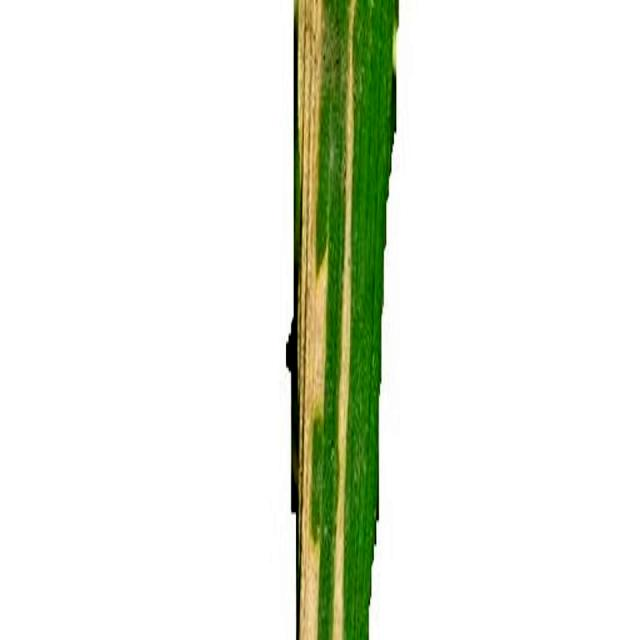BLB: (296, 0, 330, 640), (330, 0, 357, 640)
